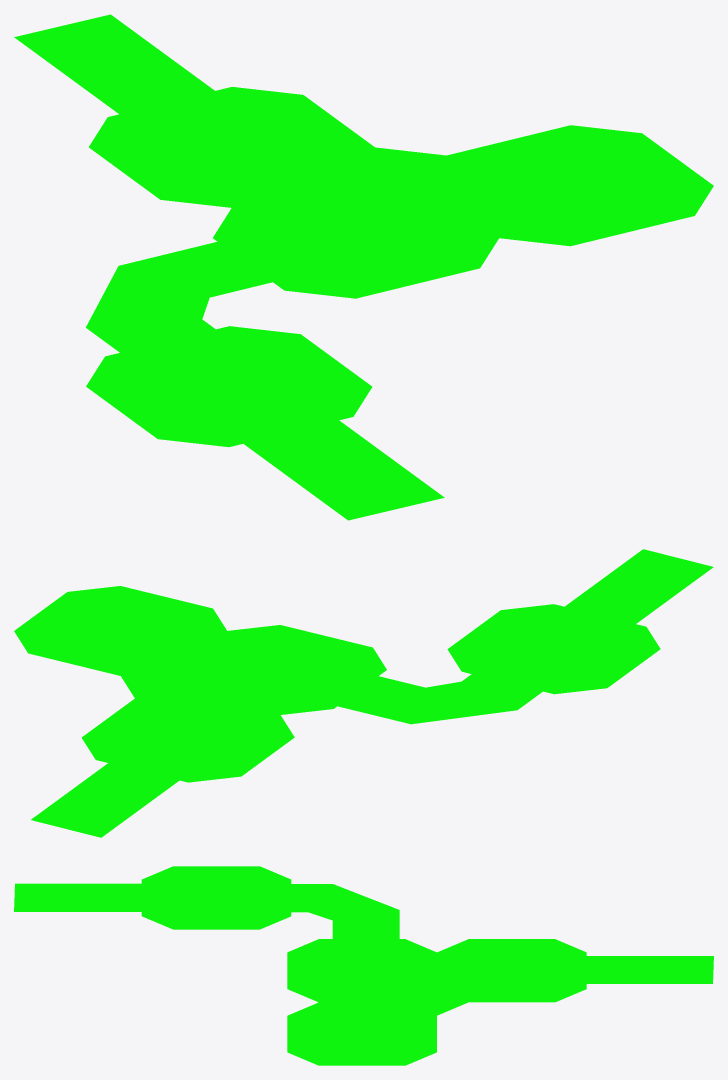
File: s02a_ic1-floor.glb
3 views of the same model, one above another, from view 1: azimuth 30°, elevation 25°; view 2: azimuth 150°, elevation 25°; view 3: azimuth 270°, elevation 25° (orthographic). The views are drawn at different scales.
Parts seen in each view (by area): view 1: collision_floor-colonly; view 2: collision_floor-colonly; view 3: collision_floor-colonly.
Part boxes in pixels (bbox=[...]): collision_floor-colonly: bbox=[14, 14, 713, 520]; collision_floor-colonly: bbox=[14, 549, 713, 837]; collision_floor-colonly: bbox=[14, 866, 713, 1065].
Size of the model in its own units: 42.33 by 0 by 62.79.
